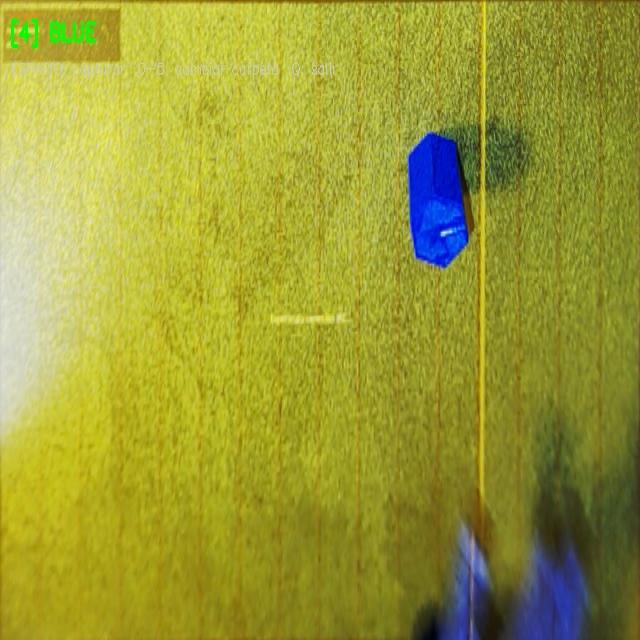blue: (406, 131, 468, 267)
